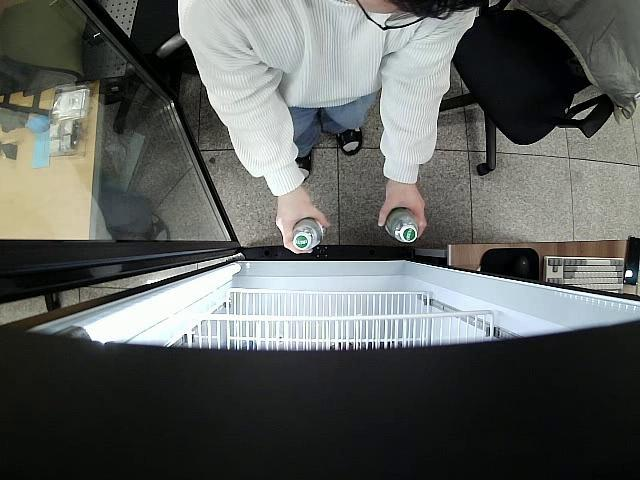18_trevi: (292, 218, 328, 252), (384, 208, 419, 242)
